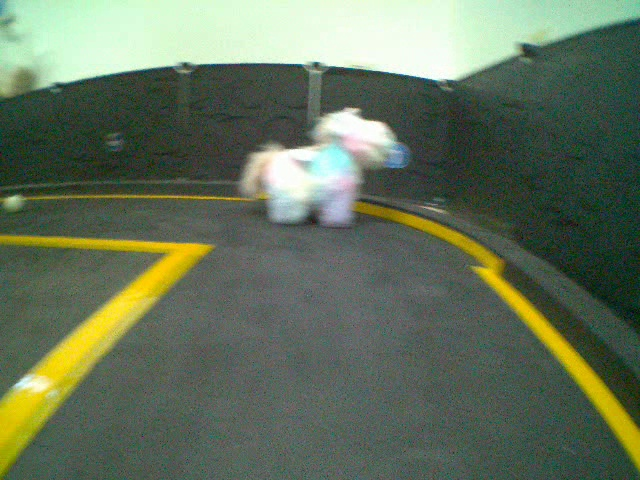unicorn: (239, 106, 395, 230)
